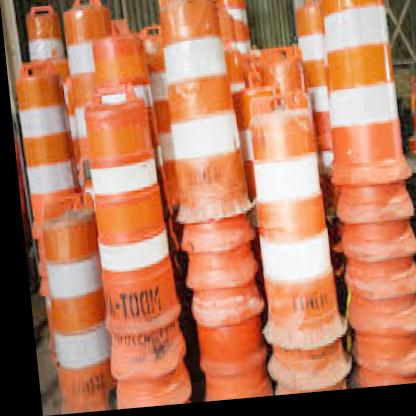obstacle: (236, 88, 331, 365), (79, 89, 174, 349), (305, 0, 406, 199), (153, 4, 241, 232)
